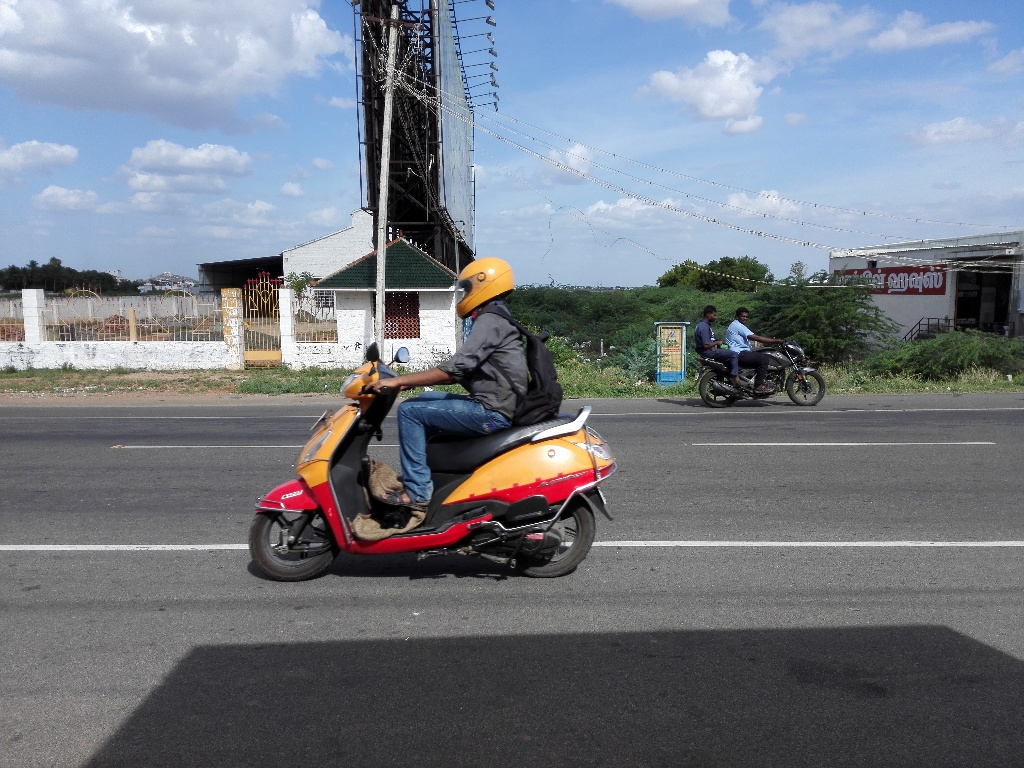biker: (235, 208, 631, 602), (680, 271, 836, 419)
helmet: (447, 246, 525, 327)
nohelmet: (730, 303, 757, 330), (698, 302, 725, 329)
